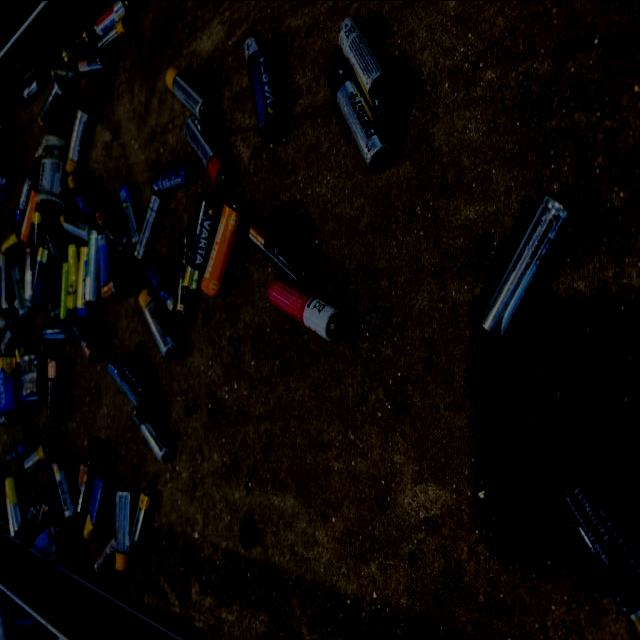AA: (477, 193, 574, 346), (262, 283, 356, 355)
AAA: (240, 18, 293, 158)
